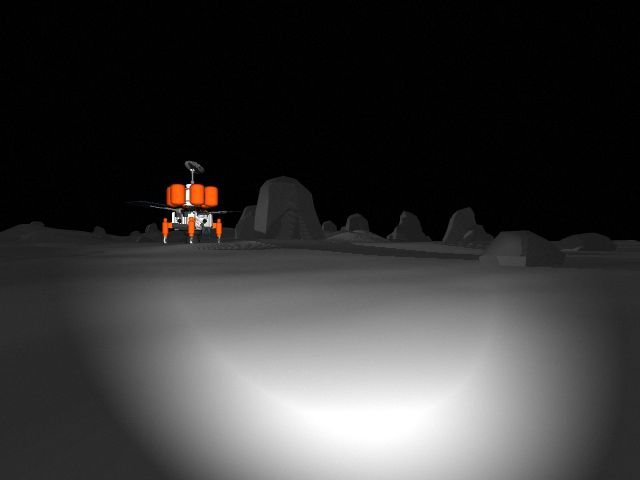homebase: (144, 157, 238, 248)
